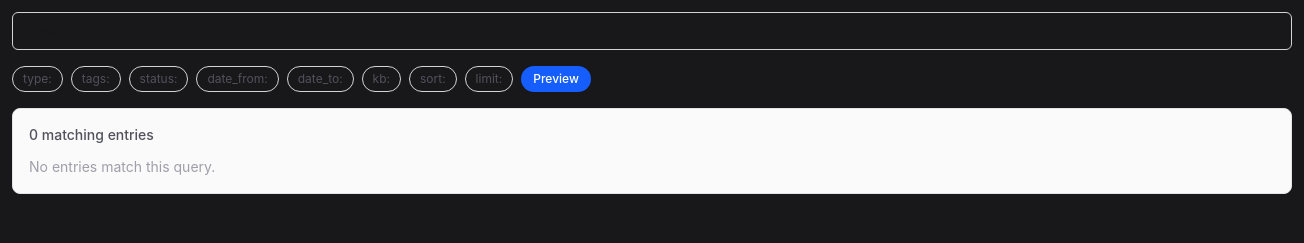
QueryBuilder › preview shows parsed query pills
What coordinates should you click on to do the following:
click the button "Preview"
I would click on:
 (556, 79)
Its box is [521, 66, 591, 92].
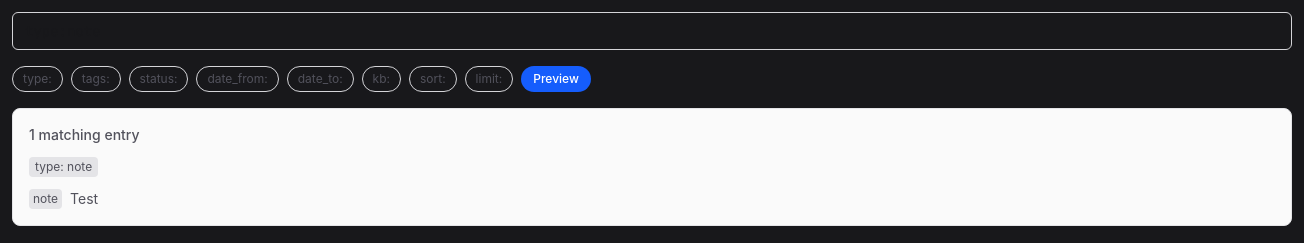
Result: the text "type: note" is shown at [29, 157, 98, 177]
